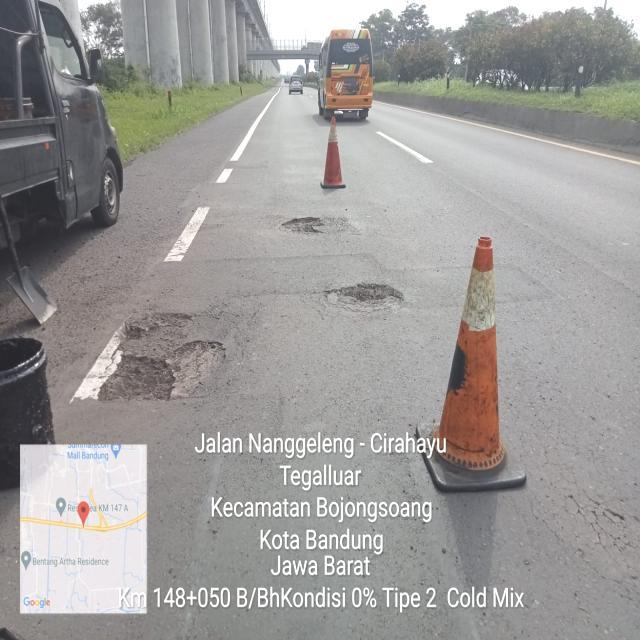Buraco: (95, 338, 229, 404), (321, 282, 408, 315), (116, 310, 203, 343), (280, 216, 326, 236)
